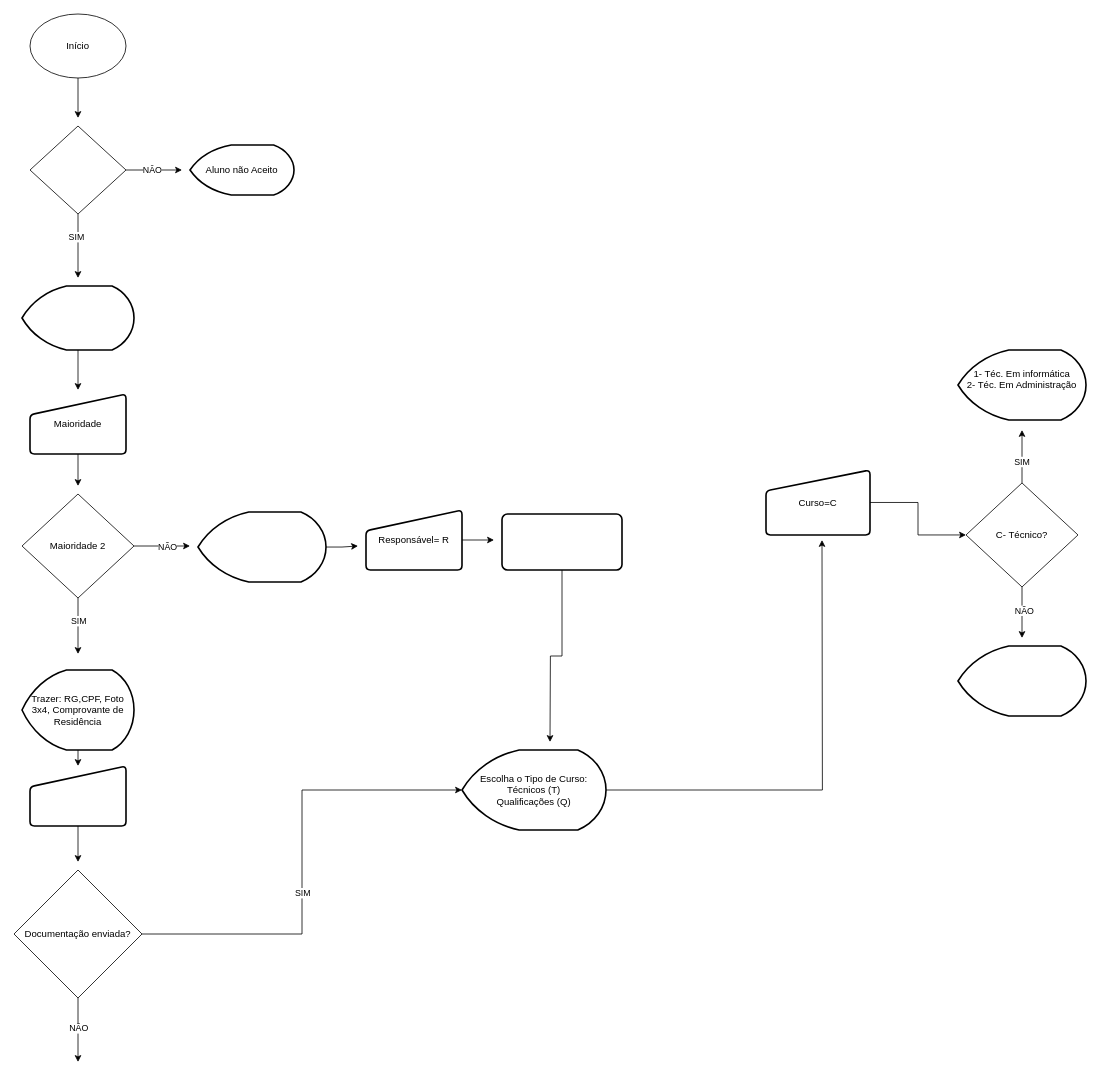
The diagram is 1101 pixels wide and 1082 high, and some of its shapes have lost their labels. The shapes that lost their labels are listed below. From the top down, each one's box as (x1, y1, x2, y2) in pixels, then its label:
(29, 125, 126, 214): 16 anos ou superior
(21, 285, 134, 350): 1- Entre 16 e 18 anos 2- Maior de 18 anos
(197, 511, 326, 582): Trazer um Responsável para assinar
(501, 513, 622, 570): Trazer D and R
(957, 645, 1086, 716): 3-Web Design 4- Costura Industrial 5- Logística 6- Soldagem
(29, 765, 126, 826): Documentação = D
